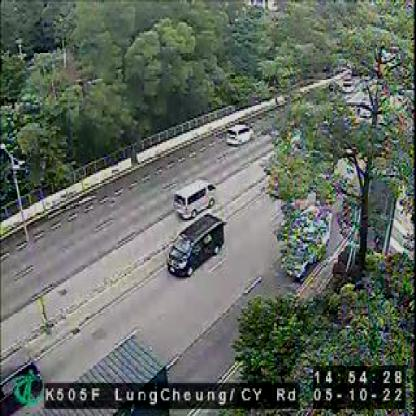Car: (166, 215, 224, 276), (173, 177, 213, 220), (226, 121, 254, 144)
